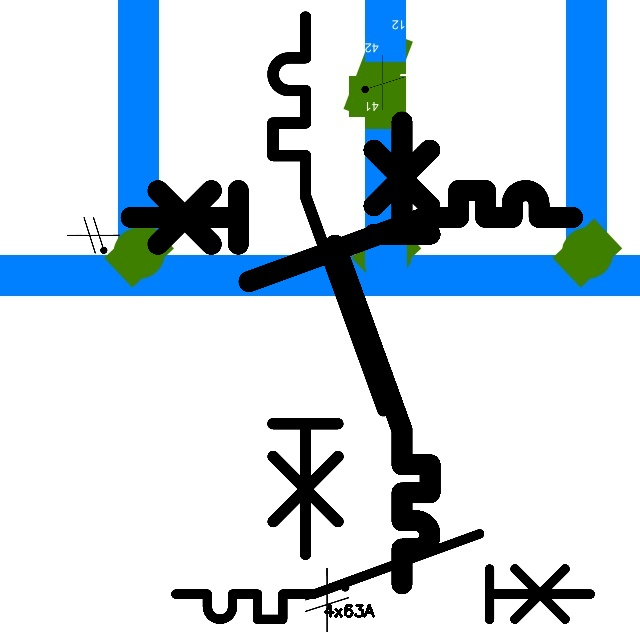interruptor_termomagnetico: (259, 3, 397, 568), (323, 109, 442, 595), (119, 179, 584, 292), (165, 523, 601, 630)
